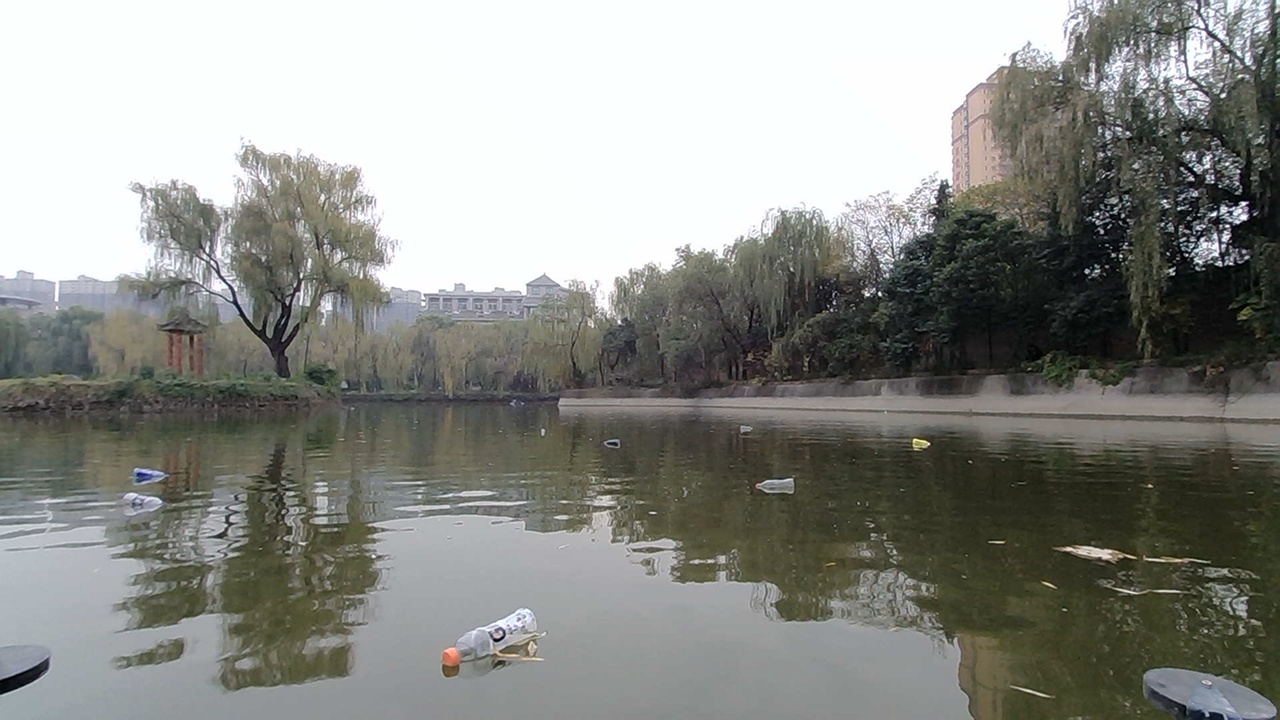bottle: (456, 609, 548, 674), (752, 458, 804, 505), (123, 481, 170, 523), (527, 419, 577, 455), (896, 421, 935, 464), (605, 424, 629, 459), (133, 465, 157, 492), (745, 419, 768, 438)
